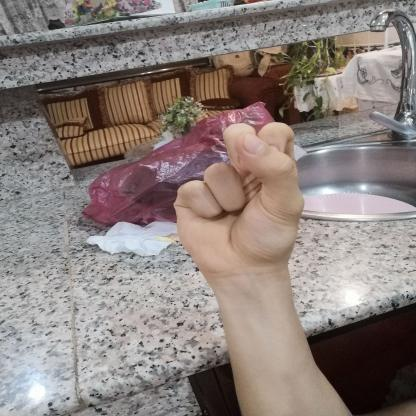QAAF: (157, 116, 321, 290)
